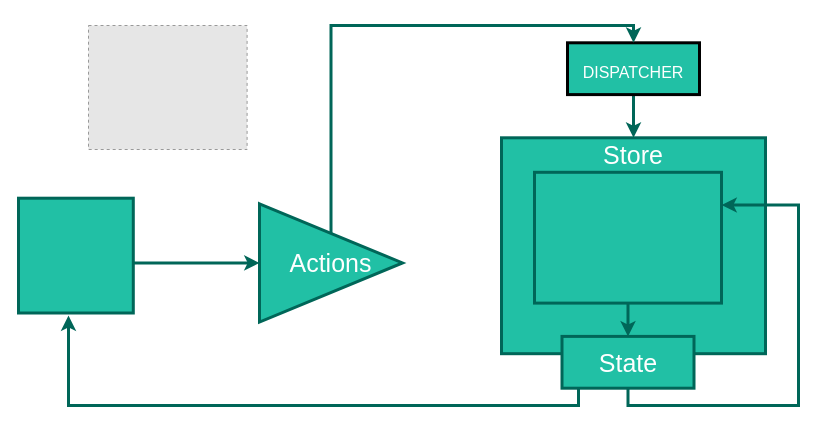
The diagram is 825 pixels wide and 432 high, and some of its shapes have lost their labels. Grey dashed boxes stand in for pictures. Here are the shapes that lost their labels. From the top down, the box of each, then its label:
(16, 196, 134, 314): View UI
(532, 170, 722, 304): REDUCER
